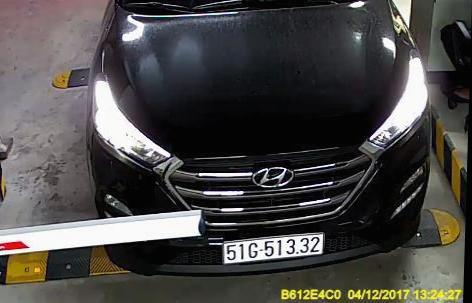License_Plate: (223, 233, 324, 262)
